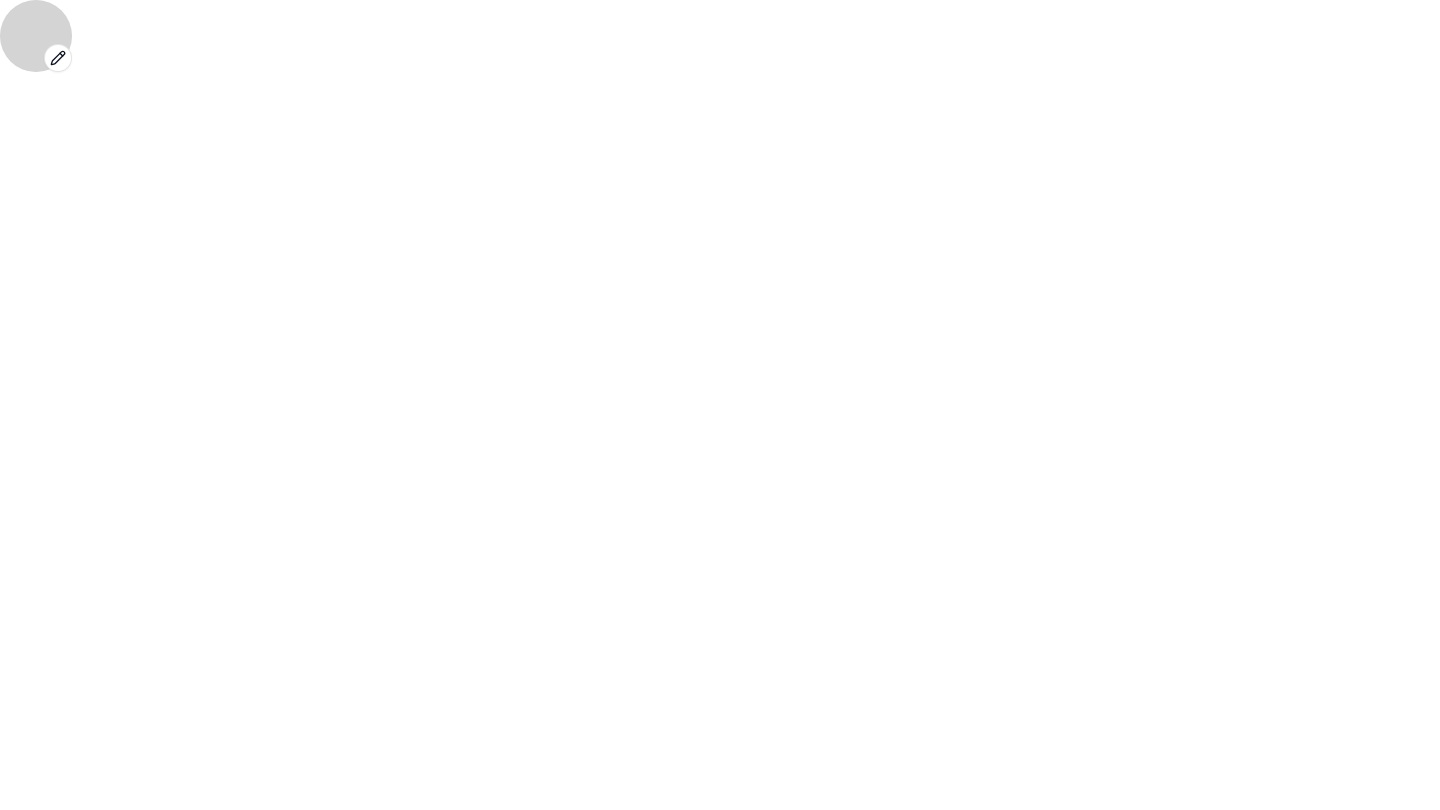
Test: AvatarWithEdit › translates avatar editing controls into Russian
Click the button named "Изменить аватар" at (58, 58), box top-left (44, 44), bottom-right (72, 72)
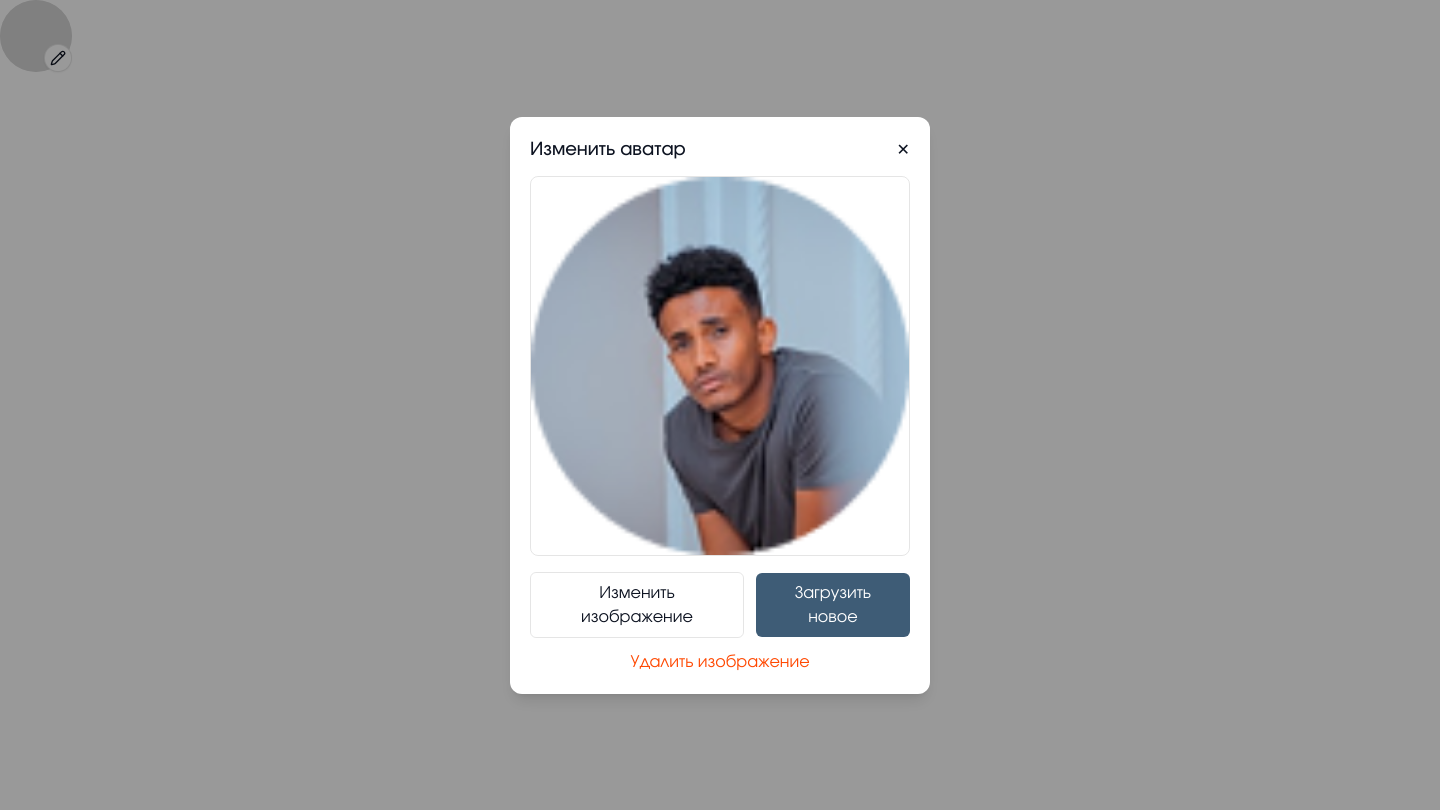
Now the heading "Изменить аватар" is shown, box top-left (530, 136), bottom-right (686, 164)
Now the button "Изменить изображение" is shown, box top-left (530, 572), bottom-right (744, 638)
Now the button "Загрузить новое" is shown, box top-left (756, 572), bottom-right (910, 636)
